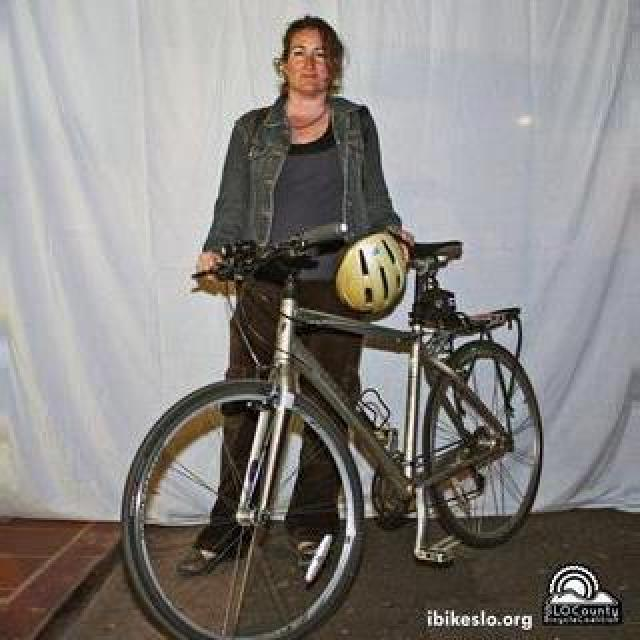MC-Bike: (184, 14, 420, 620)
Person: (118, 186, 552, 622)
